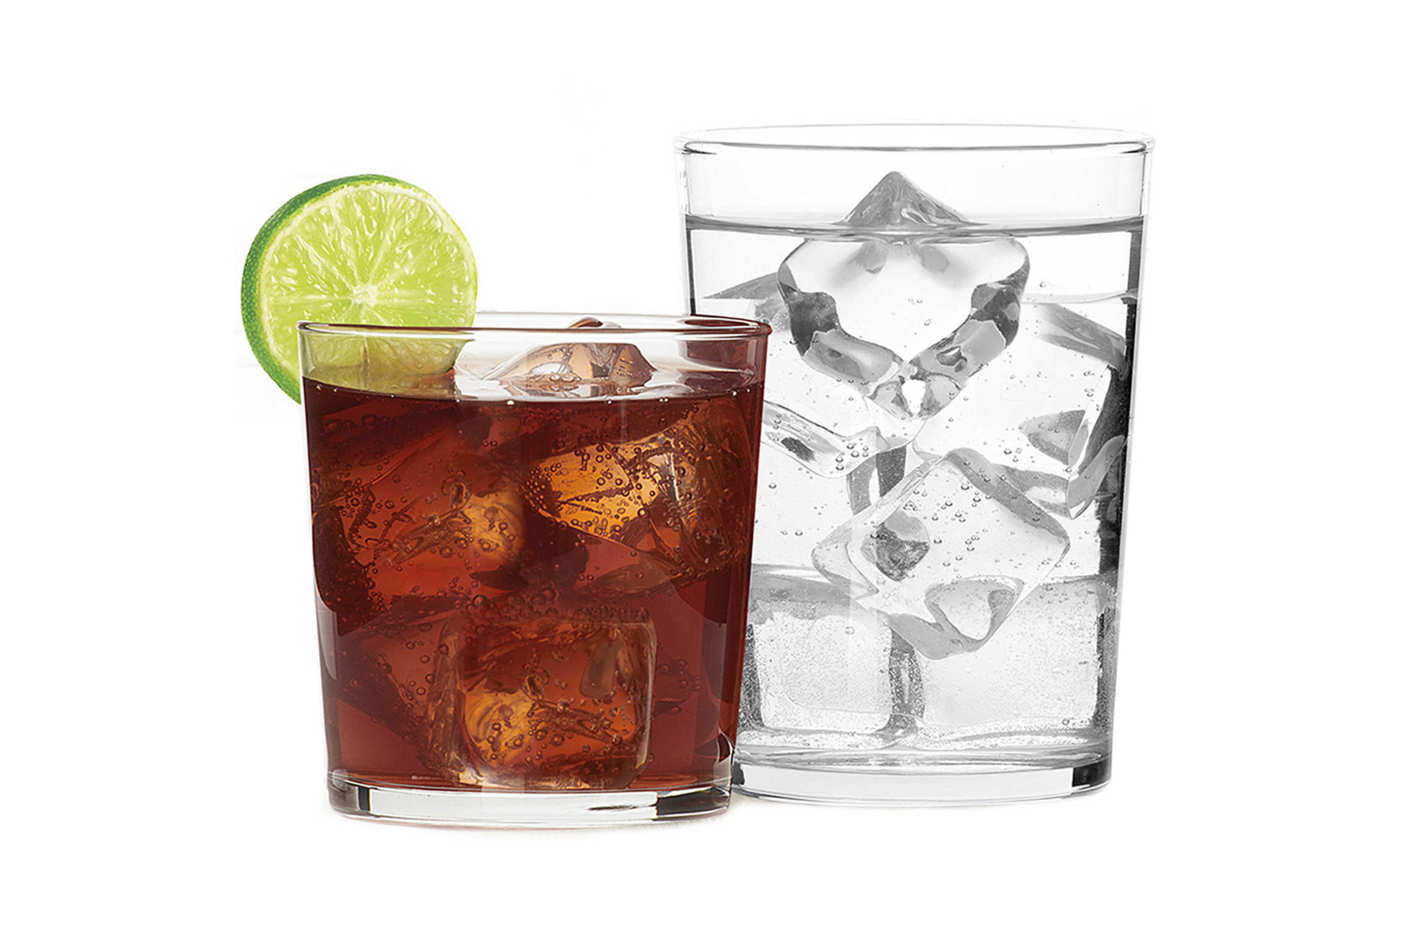glass of water: (668, 130, 1129, 796)
